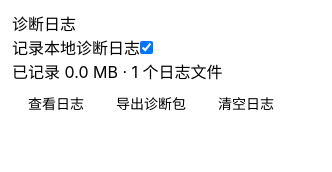
records successful operations too and preserves existing logs when disabled
The image size is (332, 172).
What coordinates should you click on to do the following:
click the checkbox labelled "记录本地诊断日志"
I would click on:
 (146, 48)
Its box is [140,41,153,54].
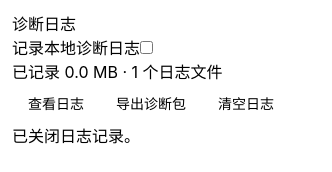
Result: the checkbox labelled "记录本地诊断日志" is not checked at [140,41,153,54]
Result: the text "已关闭日志记录。" is shown at [12,126,140,146]
